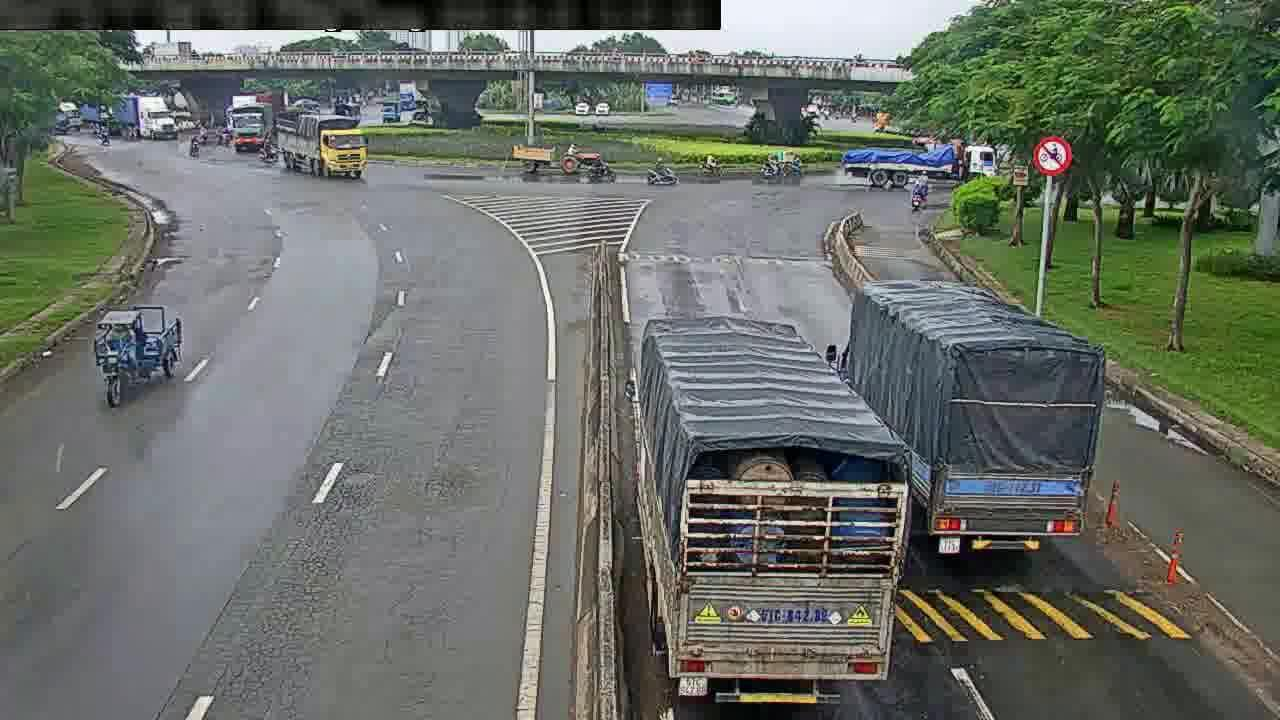8: (630, 283, 911, 703), (832, 273, 1110, 563), (275, 96, 369, 182)
motorbike: (582, 156, 621, 183), (645, 157, 682, 185), (760, 158, 786, 179), (909, 178, 925, 212), (696, 157, 723, 177)
